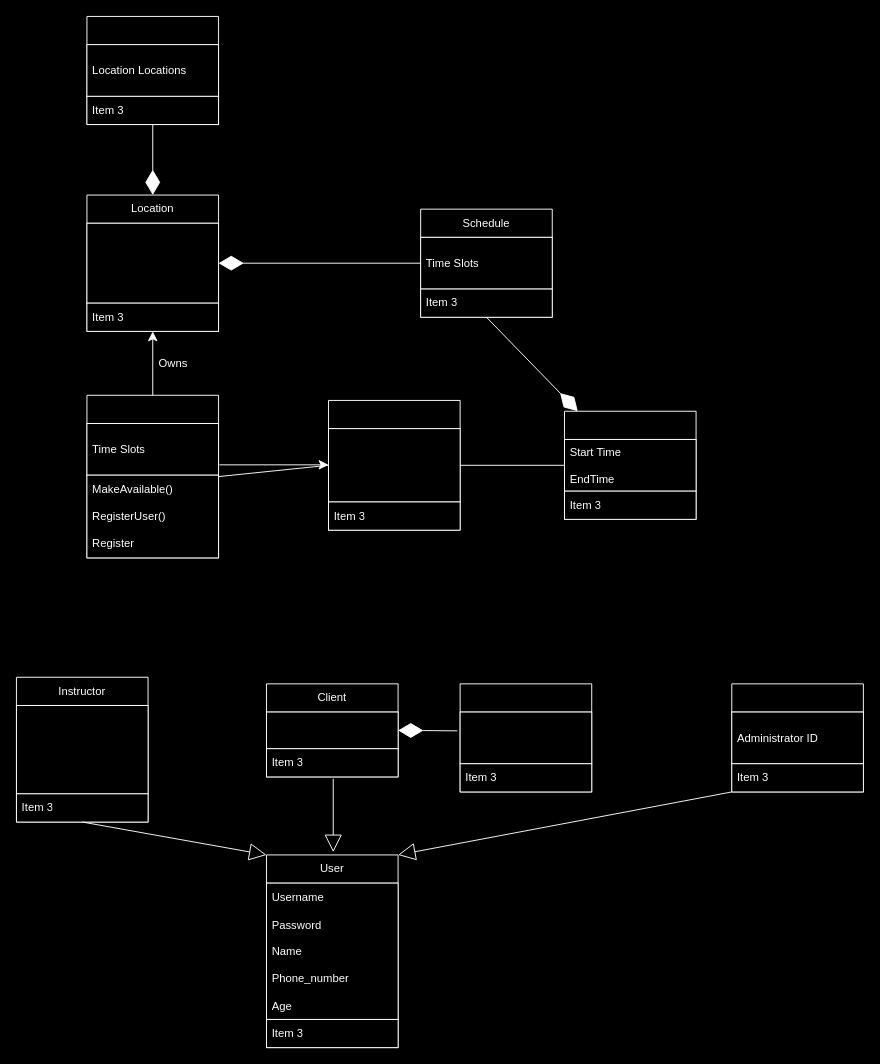
The diagram is 880 pixels wide and 1064 high, and some of its shapes have lost their labels. Here are the shapes that lost their labels. From the top down, the box of each, then its label:
(86, 16, 219, 125): LocationDB
(86, 222, 219, 303): Address Location Type Scheduale
(86, 394, 219, 558): Organization/App
(328, 428, 460, 502): Lesson Type Location Private/Public
(328, 400, 460, 530): LessonOffering
(564, 410, 696, 519): TimeSlot
(16, 705, 148, 794): Specialization Instructor ID Availability
(266, 711, 398, 749): Client ID
(459, 683, 592, 792): Gaurdian
(459, 711, 592, 764): Name
(731, 683, 863, 792): Adminstrator
